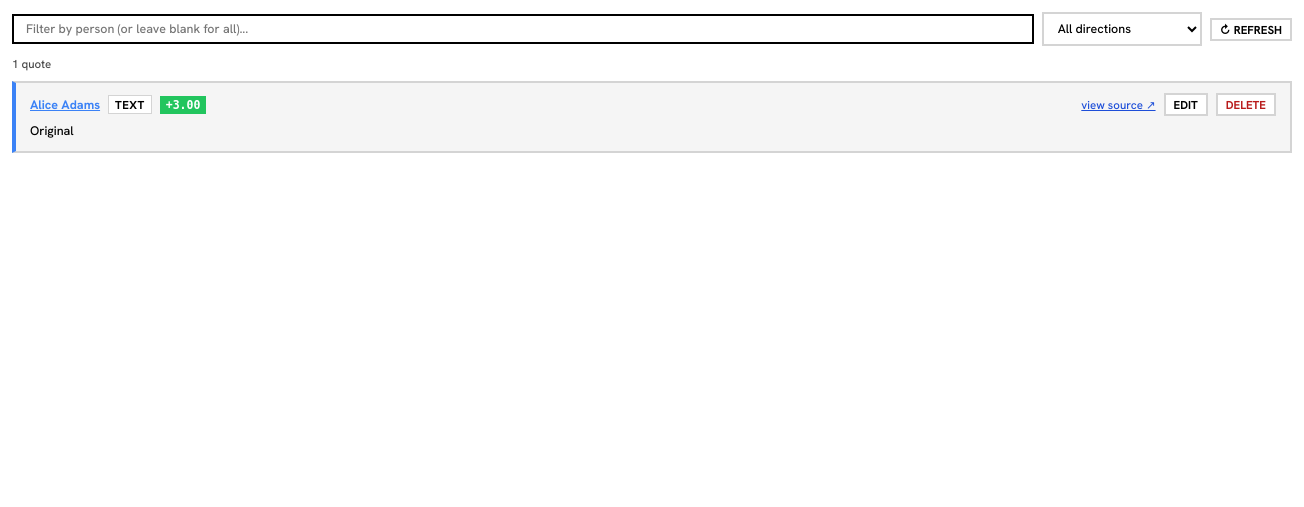
QuotesListView — inline edit › surfaces the API error message on PATCH failure
This screenshot has width=1304, height=507.
Expected: the text "Original" is shown, [30,123,74,139]
Step 1. Click the button "Edit" → (1186, 104), box [1164,93,1208,116]
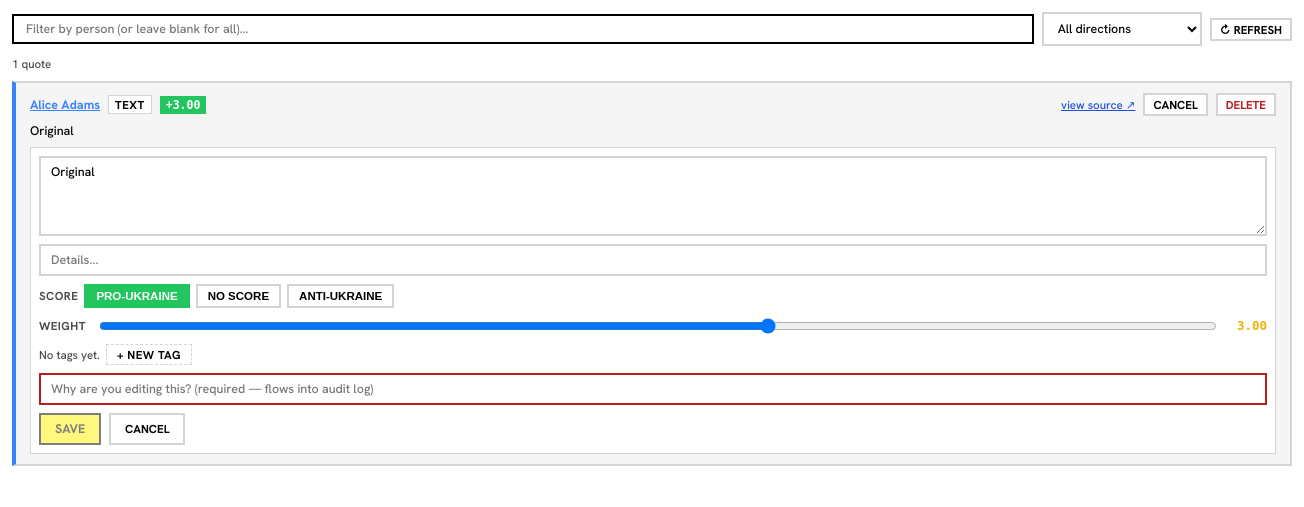
Step 2. Type "rev" into the field with placeholder "Why are you editing this? (required — flows into audit log)" → (653, 389), box [39,373,1267,405]
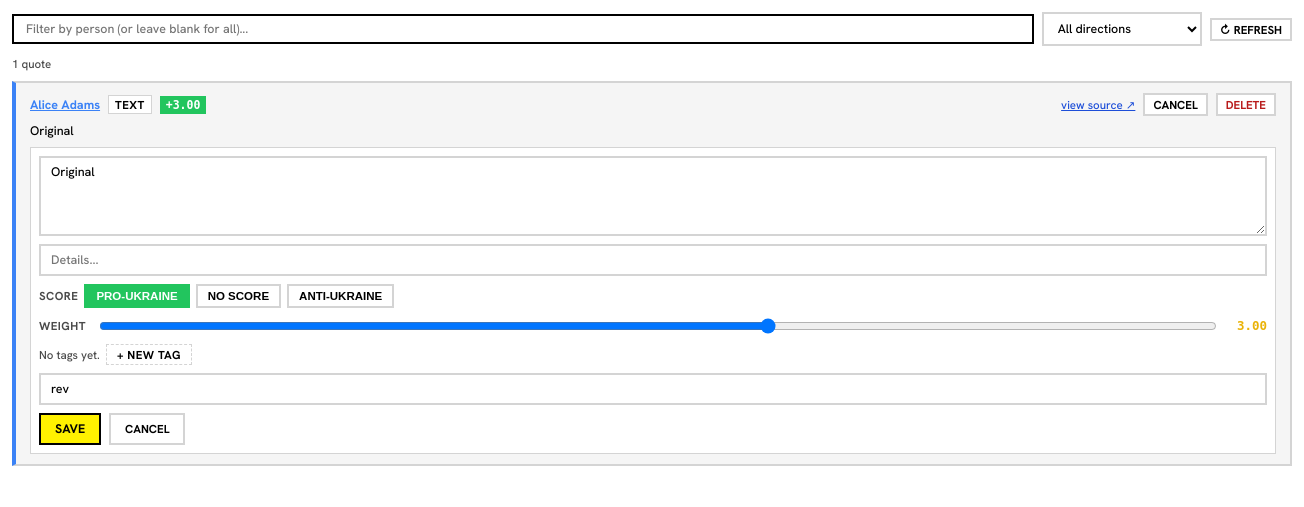
Step 3. Click the button "Save" → (70, 429), box [39,413,101,445]
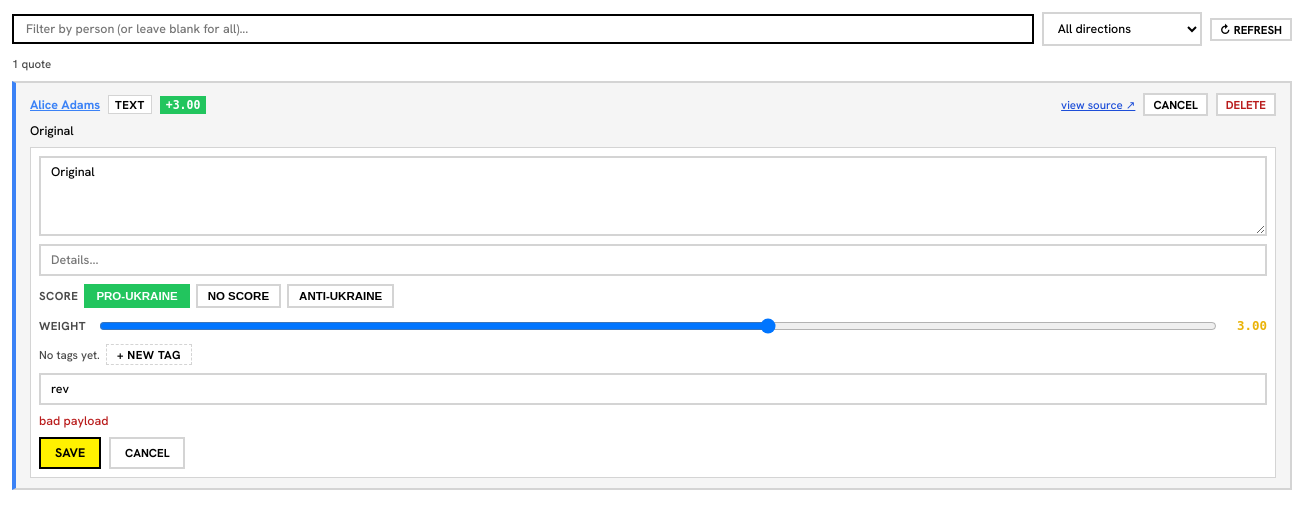
Result: the text "bad payload" is shown at [39,413,108,429]
